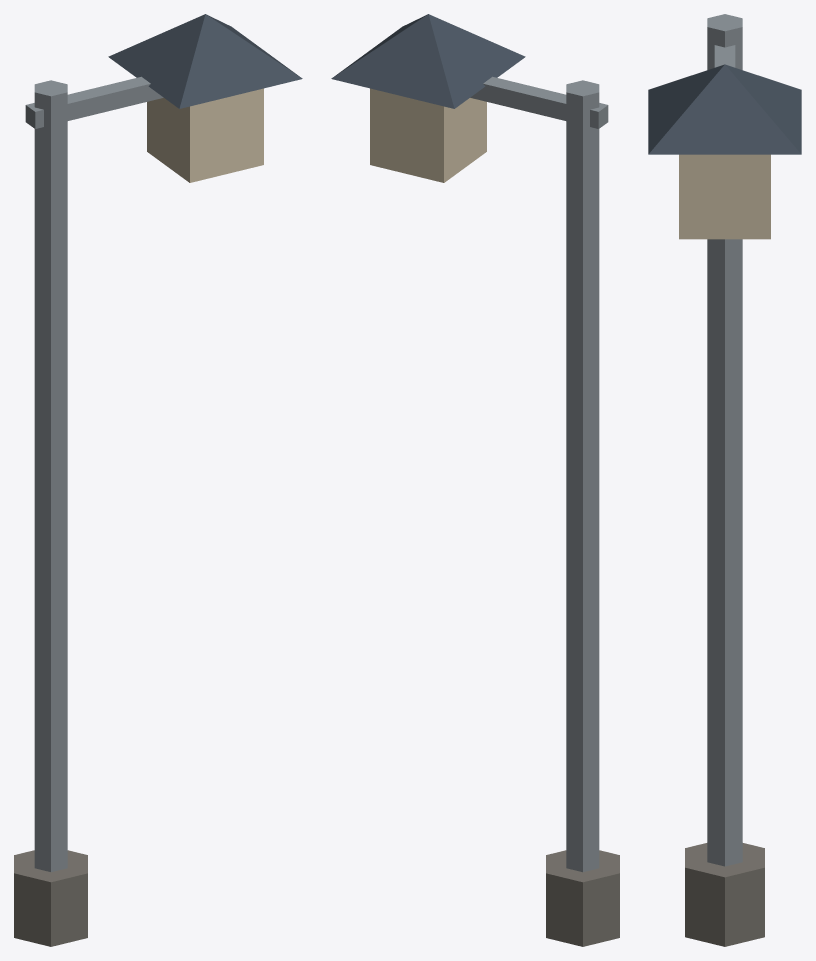
File: prop_street_lamp_off.fbx
The picture shows the model from 3 angles, left to right: view 1: azimuth 30°, elevation 25°; view 2: azimuth 150°, elevation 25°; view 3: azimuth 270°, elevation 25°; orthographic projection. The views are drawn at different scales.
Visible parts, largest first — view 1: prop_street_lamp_off; view 2: prop_street_lamp_off; view 3: prop_street_lamp_off.
Part boxes in pixels (x1,y1,x2,y2): prop_street_lamp_off: (14,14,302,946); prop_street_lamp_off: (331,14,619,946); prop_street_lamp_off: (648,14,801,946).
Size of the model in its own units: 1.23 by 4.07 by 0.6.
Materials: 1 (1 with a texture image).
